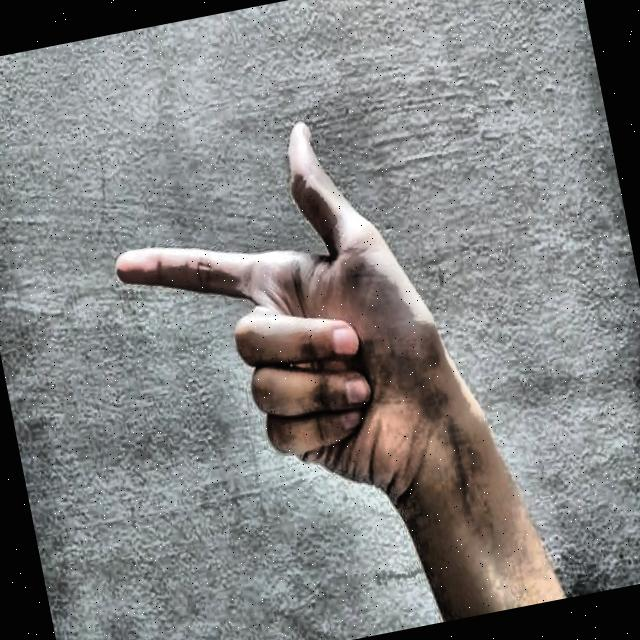Tho: (62, 49, 552, 584)
